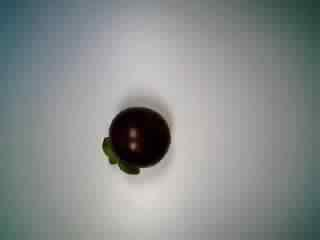mangosteen: (96, 104, 172, 177)
